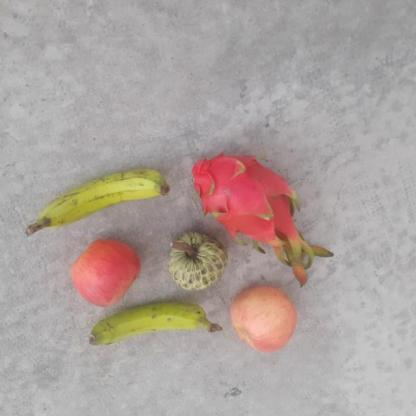annona: (162, 233, 223, 293)
apple: (70, 238, 139, 308), (232, 288, 298, 354)
banana: (40, 165, 172, 237), (90, 296, 211, 350)
pitaya: (191, 150, 300, 242)
